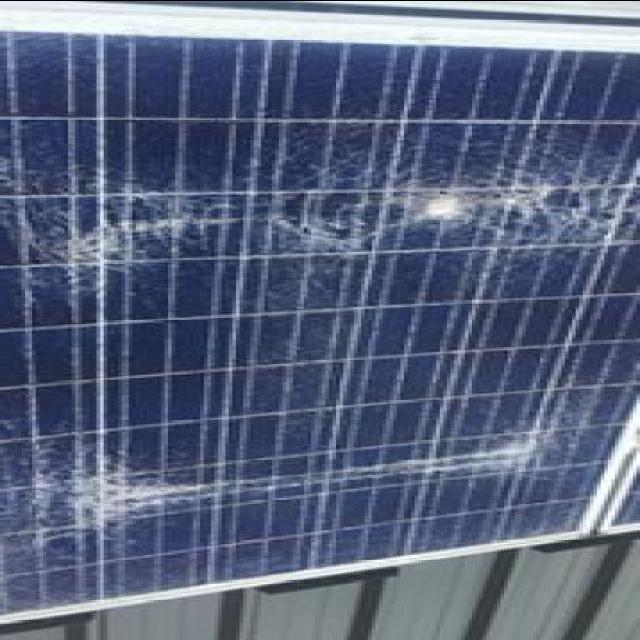cracked: (0, 17, 633, 563)
